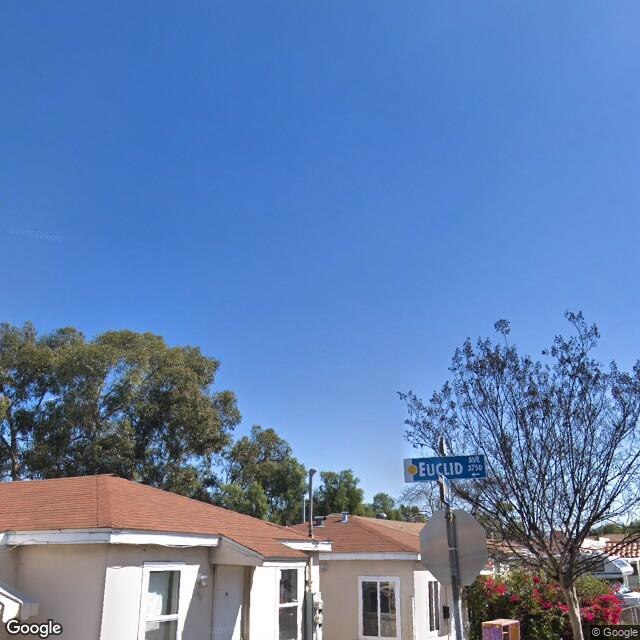window: (140, 556, 177, 640), (353, 571, 398, 640), (274, 566, 300, 640)
